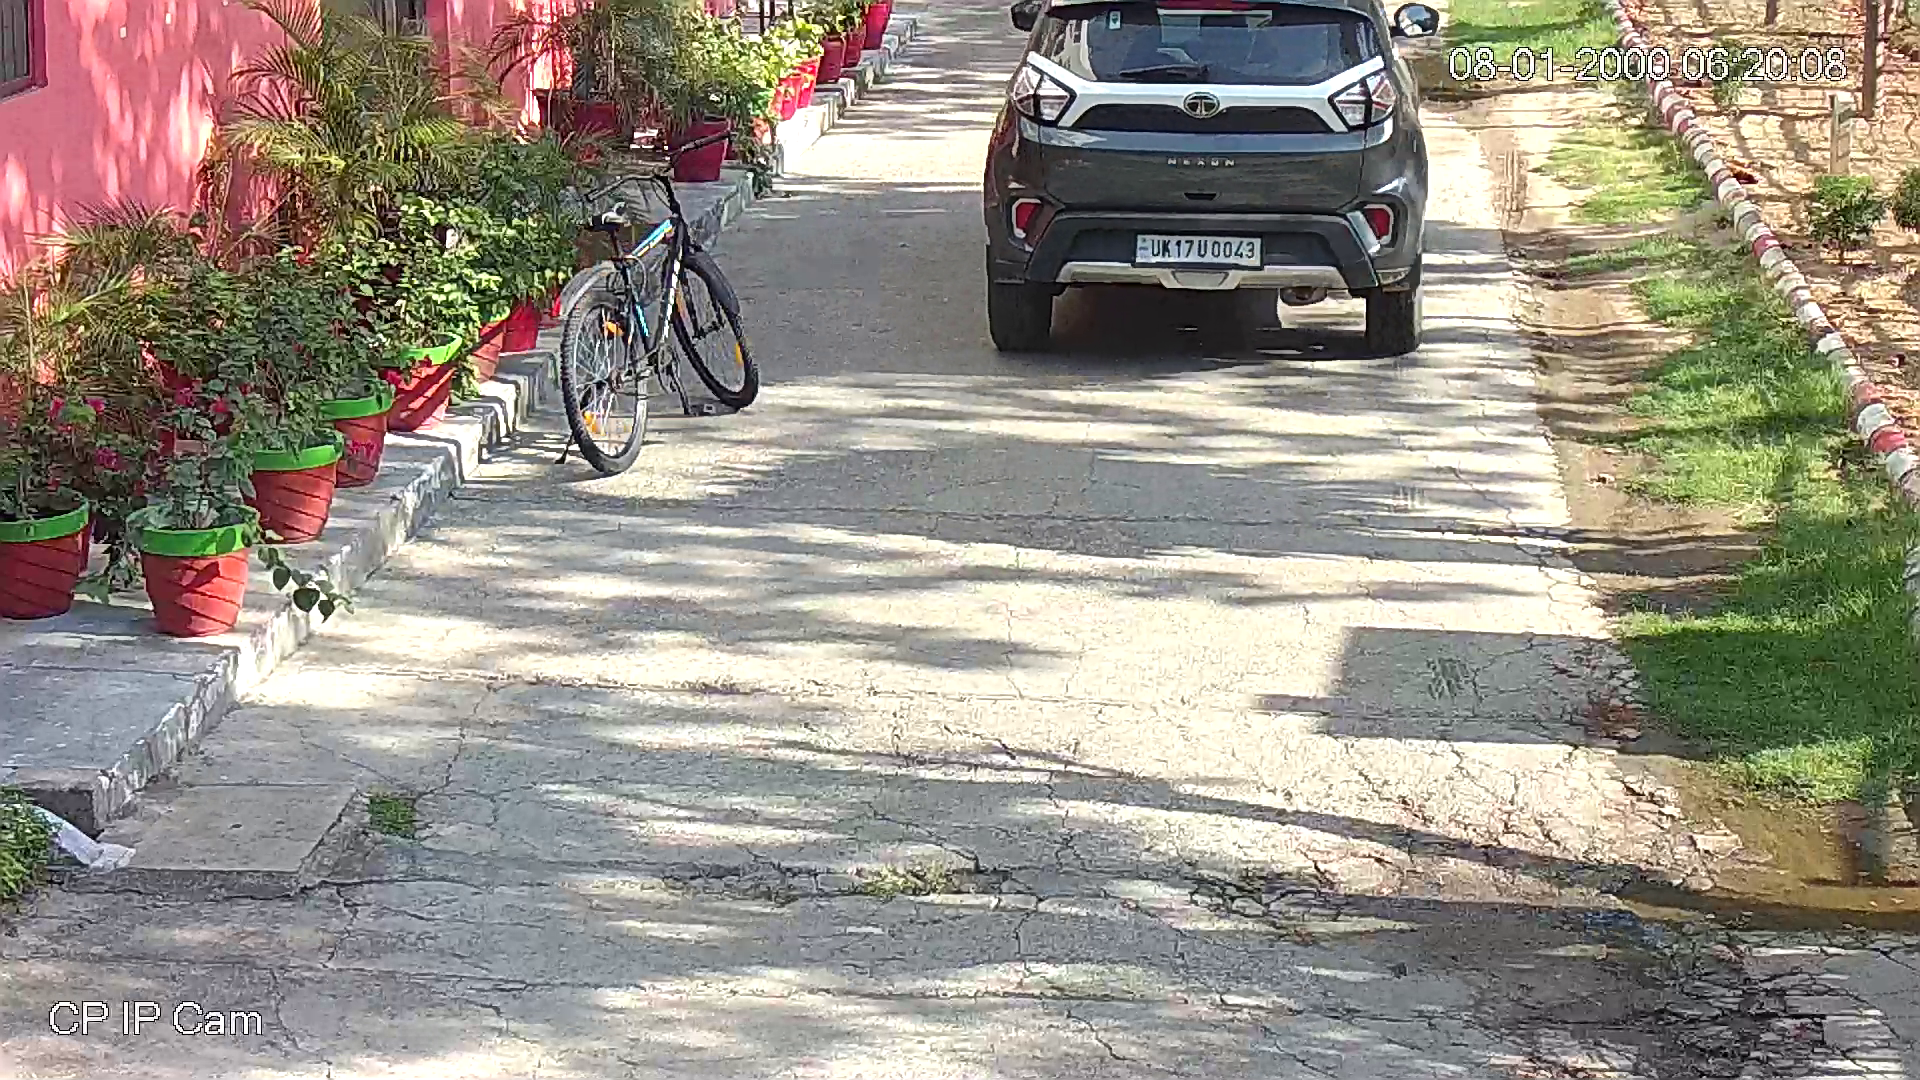plate: (1127, 229, 1265, 267)
